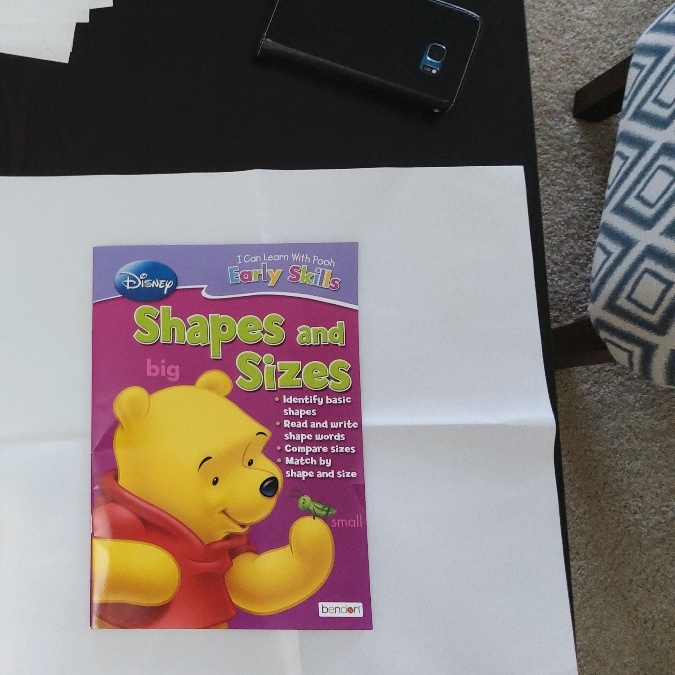book: (95, 247, 370, 632)
